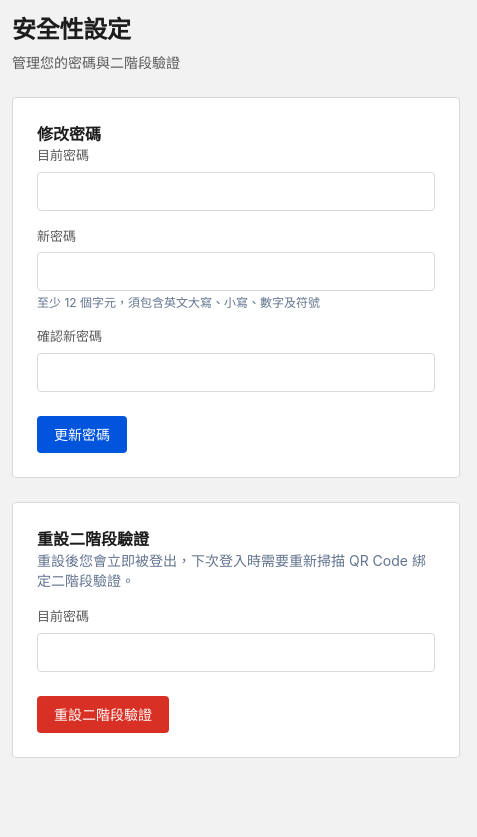
Test case: SecuritySettingsPage — change password › asks to sign in when there is no user
Type "Old-Passw0rd!" into the password field labelled "目前密碼" below "修改密碼" at (236, 191), box top-left (37, 172), bottom-right (435, 210)
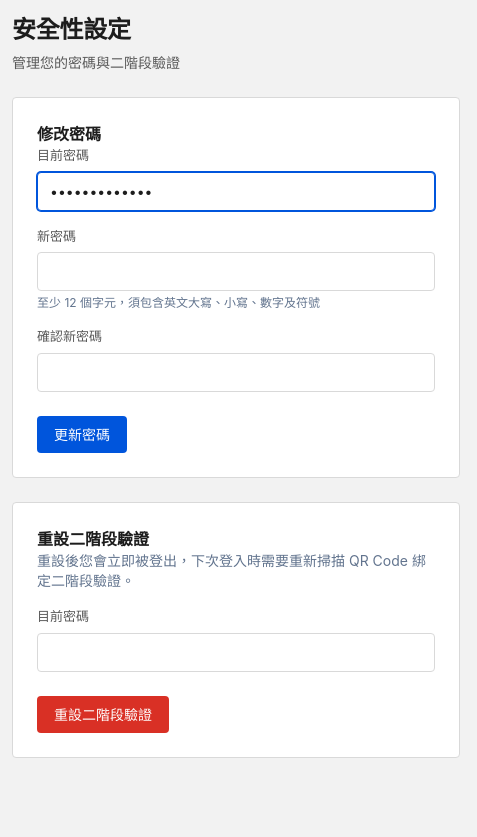
Type "New-Passw0rd!x" into the password field labelled "新密碼" at (236, 272), box top-left (37, 252), bottom-right (435, 291)
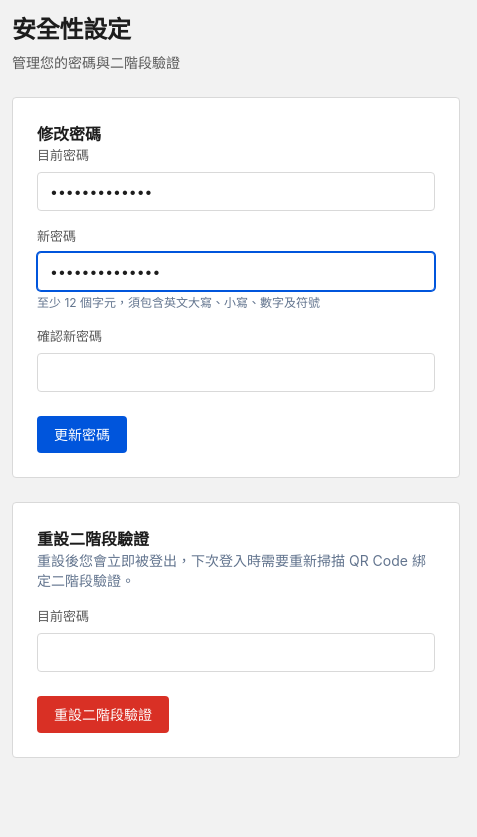
Type "New-Passw0rd!x" into the password field labelled "確認新密碼" at (236, 372), box top-left (37, 352), bottom-right (435, 392)
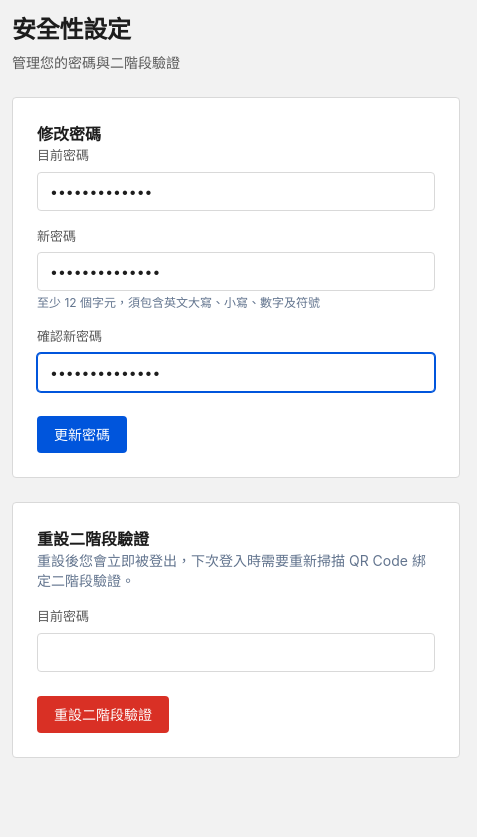
Click the button "更新密碼" at (82, 434), box top-left (37, 416), bottom-right (127, 453)
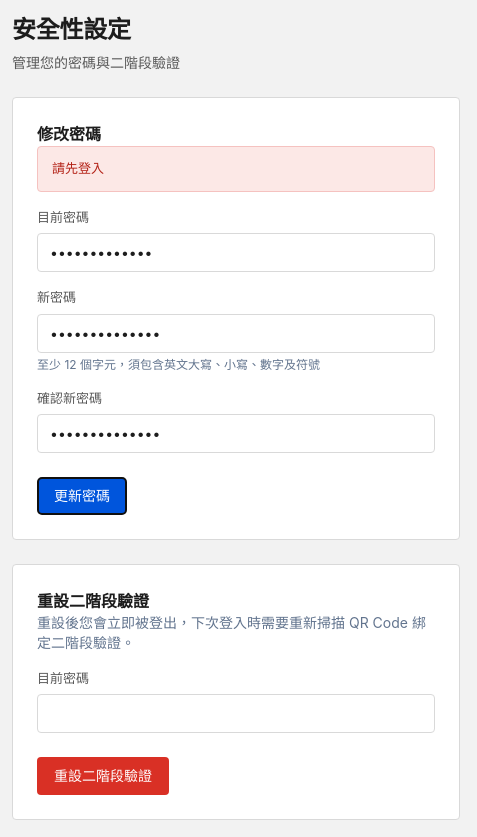
Now the text "請先登入" is shown, box top-left (37, 146), bottom-right (435, 192)
